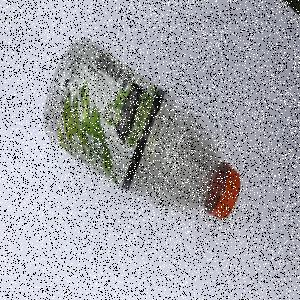Plastic-bottle: (43, 37, 243, 222)
